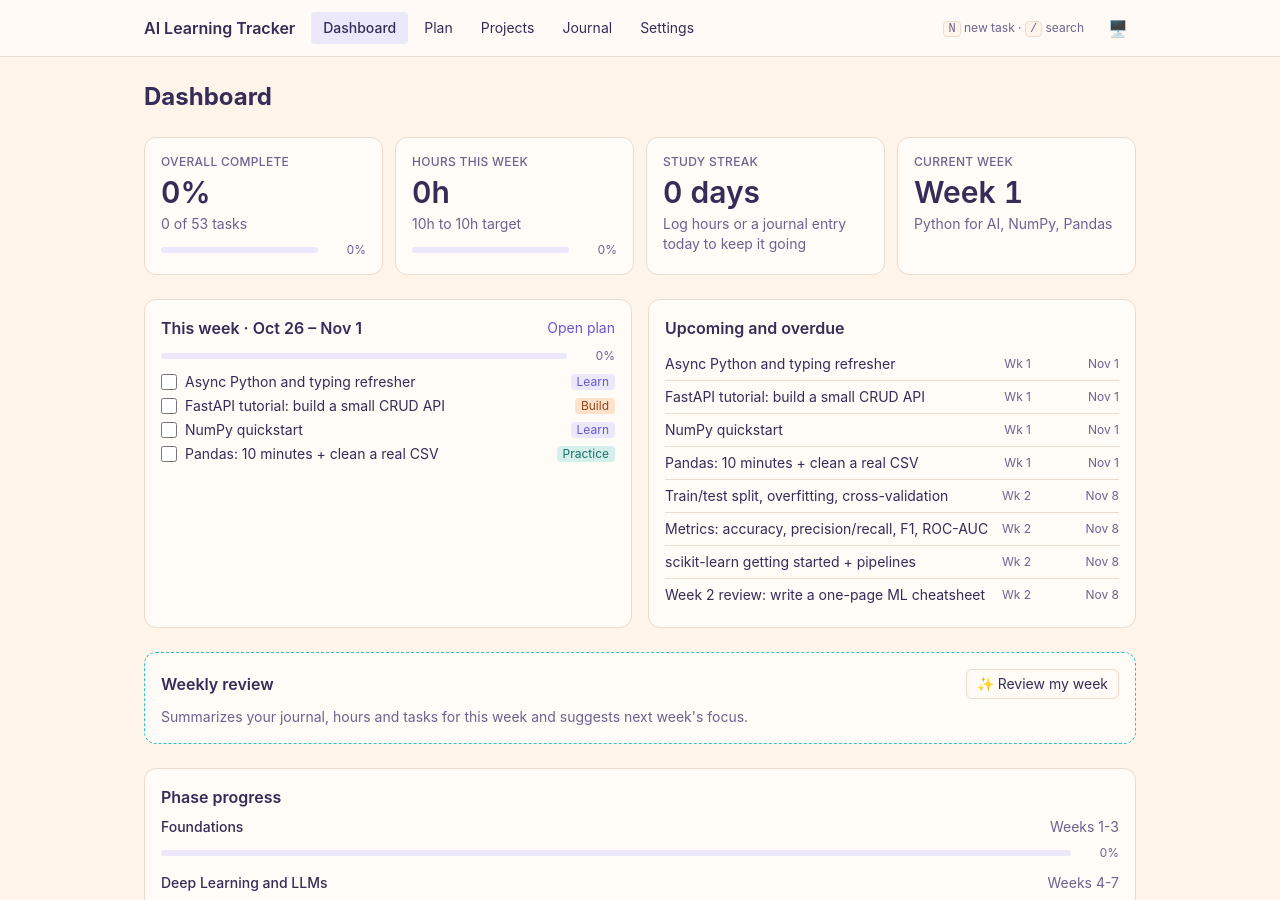
Weekly review › sends this week only and shows the result
Expected: the heading "Dashboard" is shown, [144, 82, 272, 111]
Click the button "✨ Review my week" at (1042, 684), box [966, 669, 1119, 699]
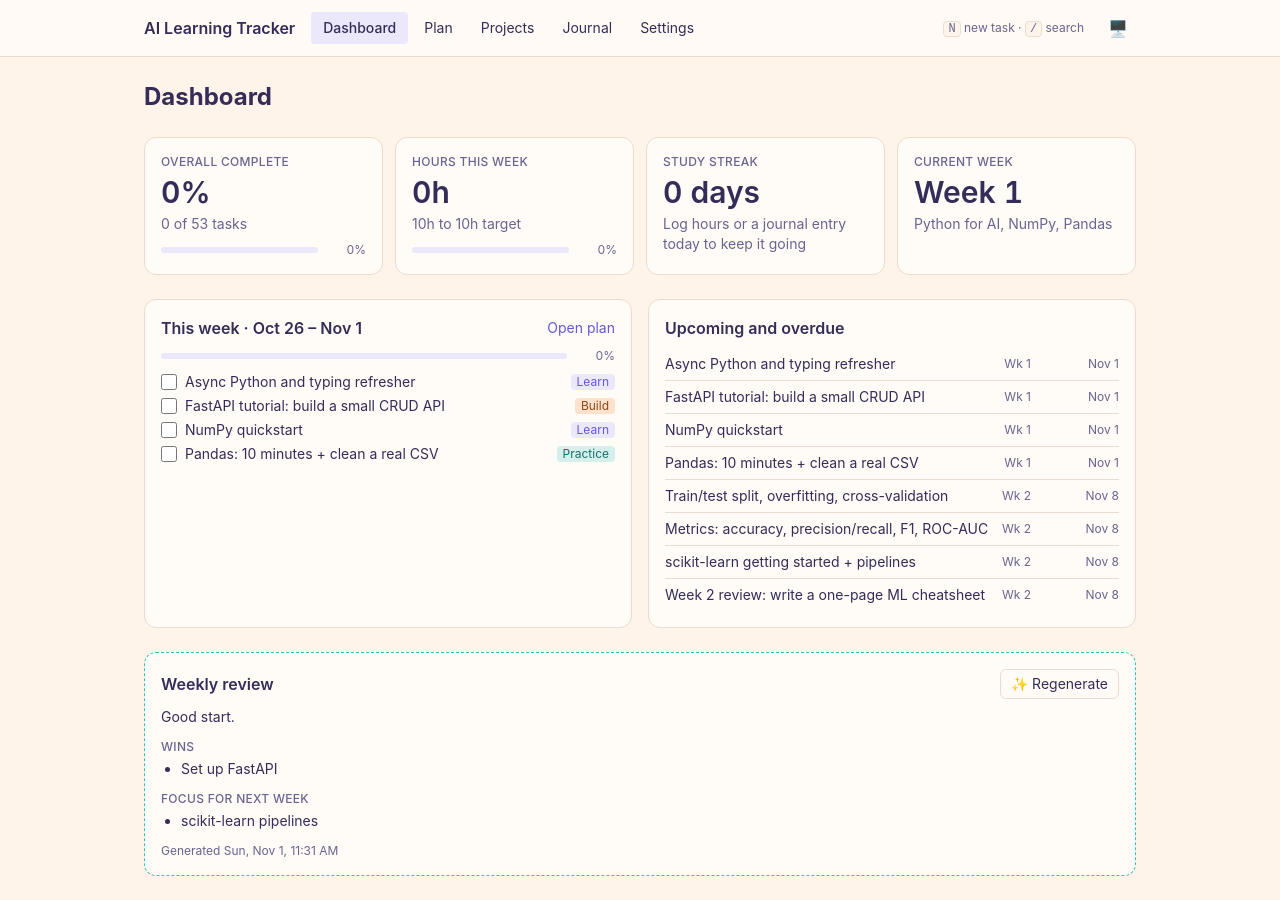
Expected: the text "Good start." is shown, [161, 708, 235, 725]
Expected: the list item "scikit-learn pipelines" is shown, [181, 812, 318, 829]
